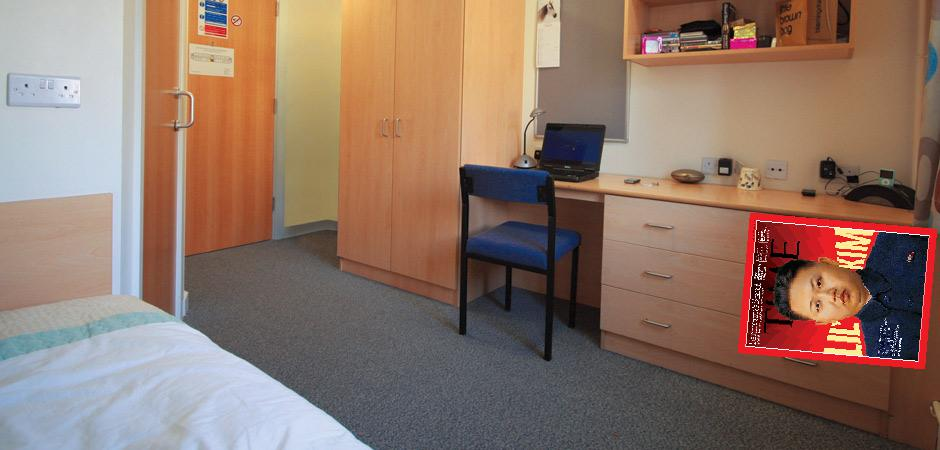times: (731, 214, 939, 372)
